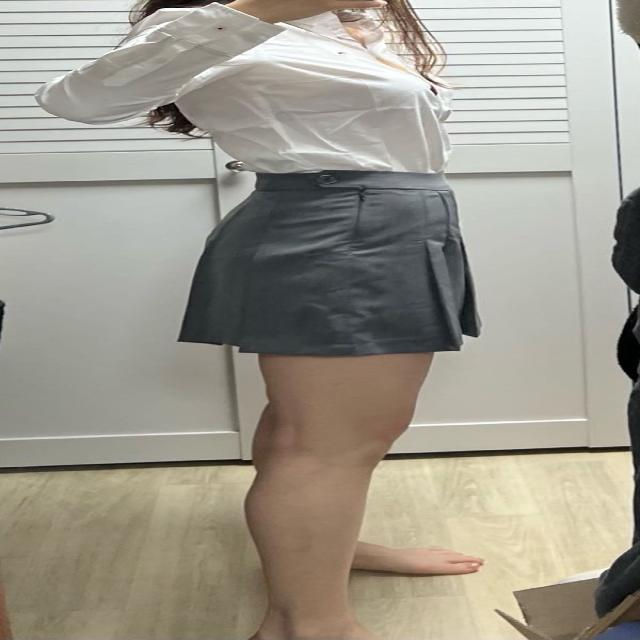shirt: (26, 4, 450, 173)
skirt: (175, 166, 480, 357)
